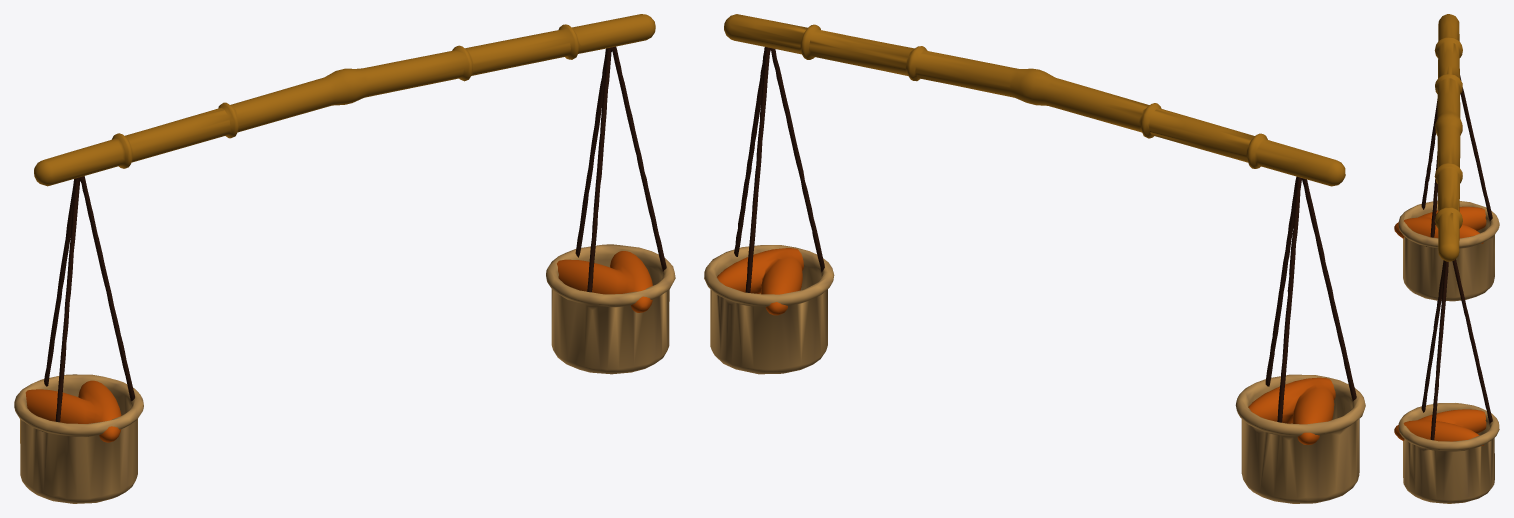
File: dongganh.glb
3 renders of one model, left to right at view 1: azimuth 30°, elevation 25°; view 2: azimuth 150°, elevation 25°; view 3: azimuth 270°, elevation 25°, orthographic. The views are drawn at different scales.
Visible parts, largest first — view 1: Thung_Tre, Don_Tre, Day_Thung, Banh_Thung; view 2: Thung_Tre, Don_Tre, Day_Thung, Banh_Thung; view 3: Thung_Tre, Don_Tre, Day_Thung, Banh_Thung.
Part boxes in pixels (bbox=[...]): Thung_Tre: bbox=[14, 244, 675, 503]; Don_Tre: bbox=[34, 14, 655, 186]; Day_Thung: bbox=[44, 46, 666, 422]; Banh_Thung: bbox=[25, 251, 652, 442]; Thung_Tre: bbox=[704, 245, 1365, 503]; Don_Tre: bbox=[724, 14, 1345, 186]; Day_Thung: bbox=[734, 47, 1356, 422]; Banh_Thung: bbox=[717, 248, 1335, 444]; Thung_Tre: bbox=[1398, 200, 1499, 503]; Don_Tre: bbox=[1434, 14, 1462, 261]; Day_Thung: bbox=[1421, 75, 1492, 440]; Banh_Thung: bbox=[1394, 206, 1486, 445].
Size of the model in its own units: 0.6062 by 0.3124 by 0.1101.
